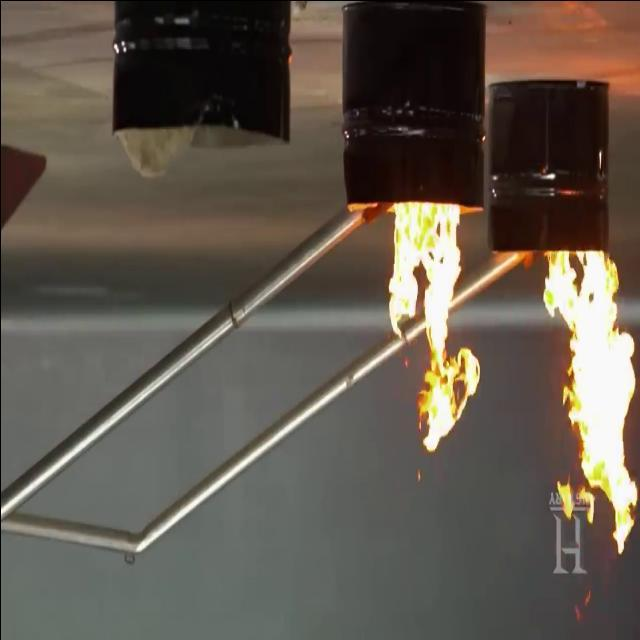Fire: (516, 218, 632, 556), (368, 202, 476, 464)
